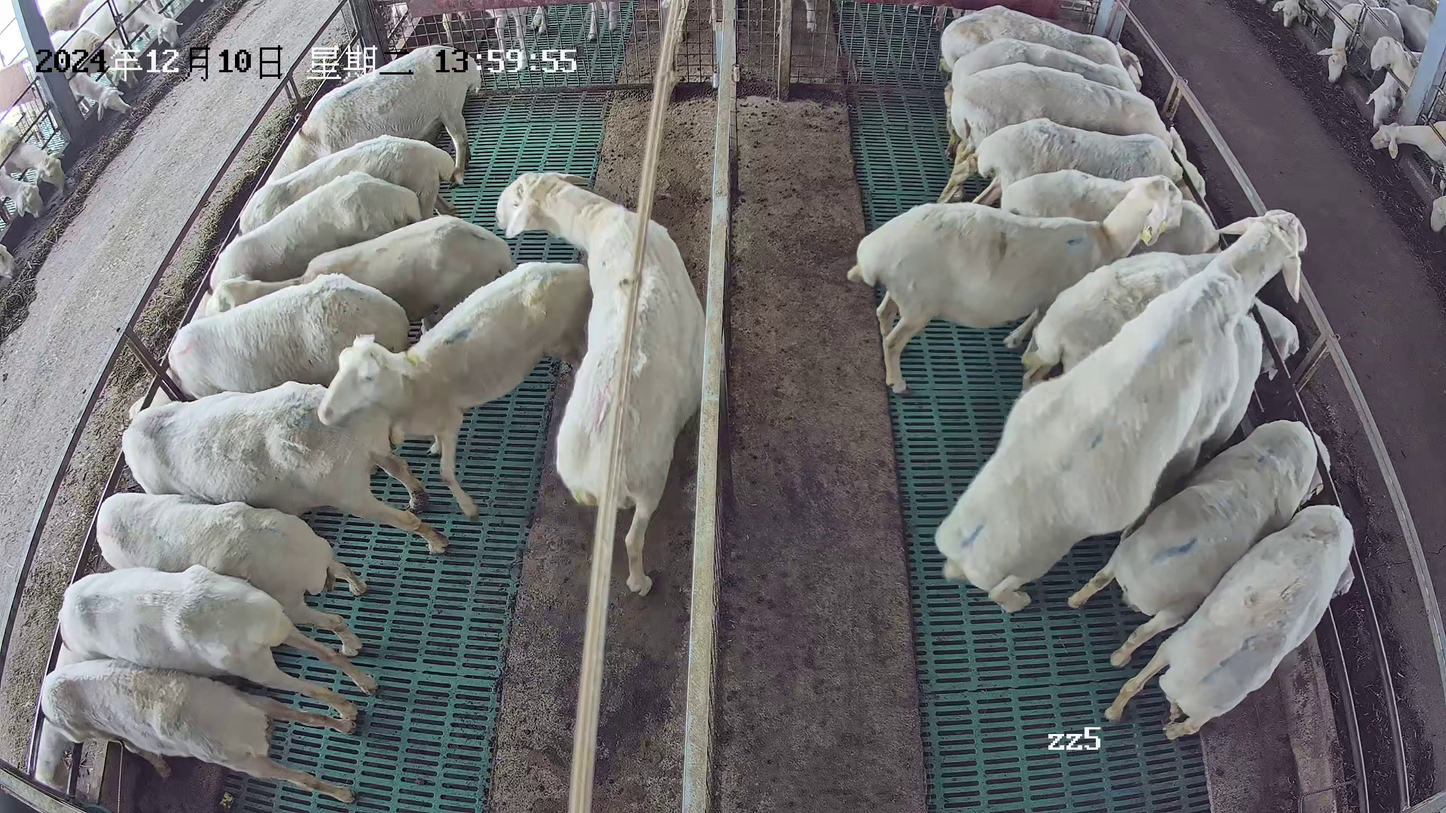Smounting: (930, 207, 1308, 615)
mounted: (1118, 316, 1265, 545)
